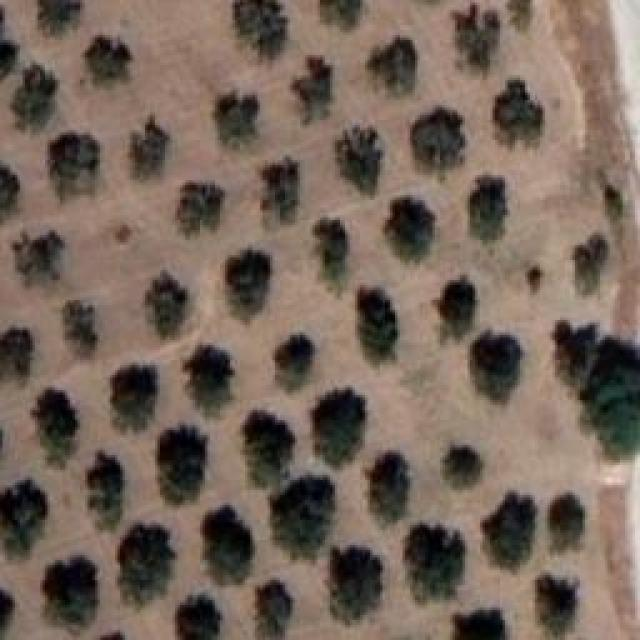Tree: (270, 470, 341, 555), (32, 550, 104, 631), (327, 540, 386, 622), (485, 483, 542, 567), (203, 503, 258, 590), (115, 523, 176, 601), (406, 522, 464, 604), (592, 370, 639, 466), (450, 0, 508, 74), (310, 385, 367, 456), (225, 243, 280, 315), (0, 474, 49, 554), (353, 280, 402, 360), (10, 225, 68, 292), (158, 425, 208, 501), (245, 408, 293, 485), (365, 448, 415, 521), (310, 218, 357, 294), (110, 358, 162, 426), (83, 453, 121, 545), (183, 345, 231, 416), (30, 390, 77, 462), (415, 103, 468, 166), (48, 130, 100, 194), (333, 130, 385, 194), (468, 173, 516, 241), (258, 153, 307, 219), (8, 73, 60, 134), (148, 270, 192, 339), (535, 573, 583, 635), (178, 183, 225, 246), (493, 80, 544, 138), (475, 333, 523, 394), (388, 197, 438, 255), (550, 323, 596, 385), (128, 118, 175, 178), (368, 35, 422, 87), (238, 0, 289, 55), (57, 292, 104, 351), (217, 90, 264, 149), (275, 333, 320, 393), (174, 585, 228, 635), (290, 57, 335, 116), (570, 233, 609, 296), (440, 273, 478, 335), (80, 36, 133, 80), (257, 577, 292, 640), (545, 492, 583, 549), (453, 603, 506, 640), (0, 324, 33, 383), (440, 438, 485, 479), (37, 0, 83, 37), (0, 160, 18, 220), (328, 0, 364, 30), (0, 37, 16, 82)
